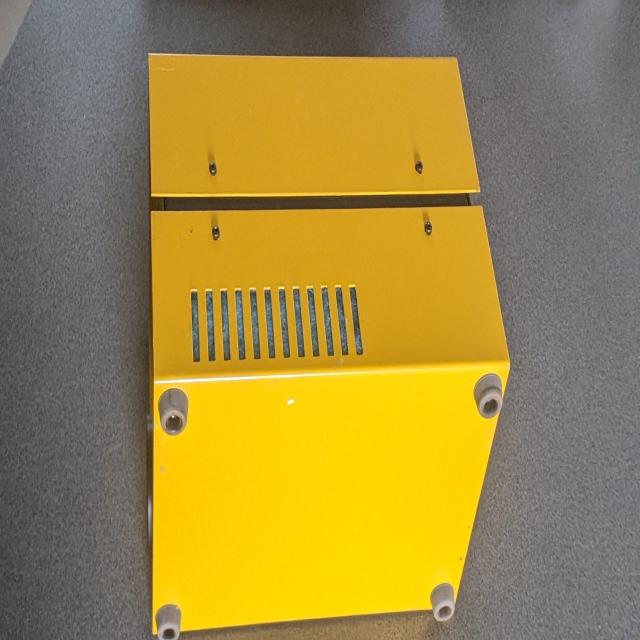Vacuum Pump: (131, 42, 515, 633)
